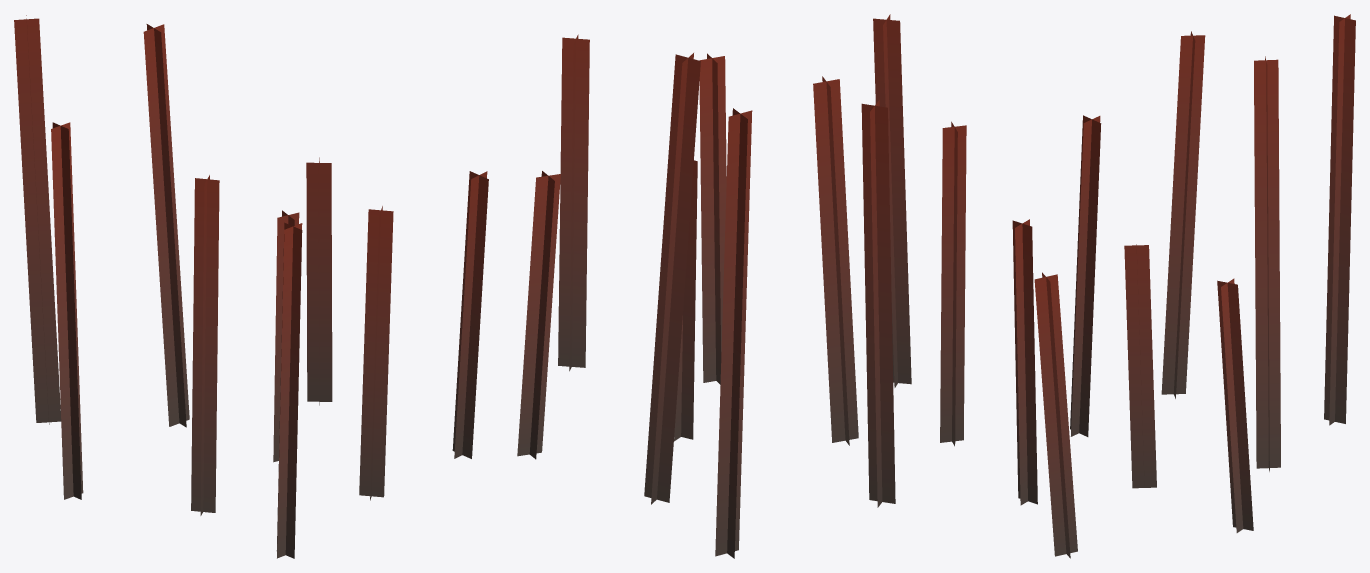
Rendered from ChanHuong_Dem1.glb.
3 views of the same model, side by side, from view 1: azimuth 30°, elevation 25°; view 2: azimuth 150°, elevation 25°; view 3: azimuth 270°, elevation 25° (orthographic). The views are drawn at different scales.
Visible parts, largest first — view 1: ChanHuong_Dem1_Que; view 2: ChanHuong_Dem1_Que; view 3: ChanHuong_Dem1_Que.
Part boxes in pixels (box(x1,y1,x2,y2)): ChanHuong_Dem1_Que: box(14, 15, 488, 558); ChanHuong_Dem1_Que: box(517, 14, 911, 558); ChanHuong_Dem1_Que: box(940, 14, 1355, 558).
Size of the model in its own units: 0.0586 by 0.0621 by 0.059.
